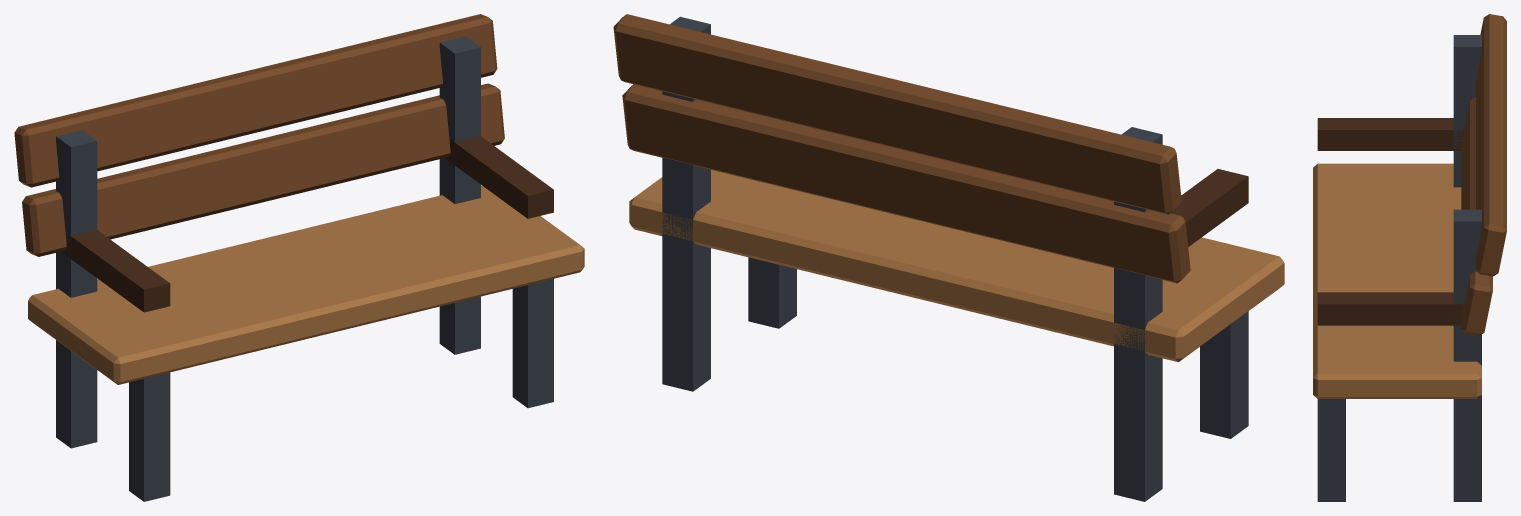
The model's file is bench.glb.
The picture shows the model from 3 angles, left to right: view 1: azimuth 30°, elevation 25°; view 2: azimuth 150°, elevation 25°; view 3: azimuth 270°, elevation 25°; orthographic projection. The views are drawn at different scales.
Parts seen in each view (by area): view 1: seat, back_2, back_1, leg_b, leg_b.001, leg_f, leg_f.001, arm, arm.001; view 2: seat, back_2, back_1, leg_b.001, leg_b, leg_f, arm, leg_f.001; view 3: seat, back_2, leg_b.001, arm.001, arm, back_1, leg_f.001, leg_b.
Part boxes in pixels (x1,y1,x2,y2): seat: (28,185,584,384); back_2: (14,14,497,187); back_1: (22,83,504,256); leg_b: (56,130,97,448); leg_b.001: (439,36,480,354); leg_f: (129,372,170,501); leg_f.001: (512,279,553,408); arm: (61,230,170,312); arm.001: (445,136,553,218); seat: (629,169,1284,362); back_2: (613,14,1181,214); back_1: (622,84,1190,283); leg_b.001: (662,16,710,391); leg_b: (1114,127,1162,501); leg_f: (1200,311,1248,438); arm: (1171,169,1248,246); leg_f.001: (748,257,796,328); seat: (1313,163,1481,398); back_2: (1475,14,1506,276); leg_b.001: (1453,209,1481,501); arm.001: (1317,292,1463,325); arm: (1317,118,1463,150); back_1: (1461,97,1492,335); leg_f.001: (1317,399,1345,501); leg_b: (1453,35,1481,187).
Size of the model in its own units: 1.08 by 0.6817 by 0.4135.
